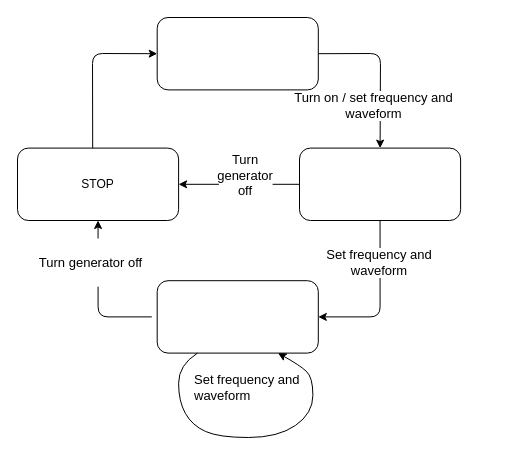
Image size: 505x455. Some labels were removed from this diagram. Each missing label, with the centre of its shape:
"CHANGE OUTPUT" belongs at point 237,316.
"IDLE" belongs at point 237,53.
"START" belongs at point 379,183.
